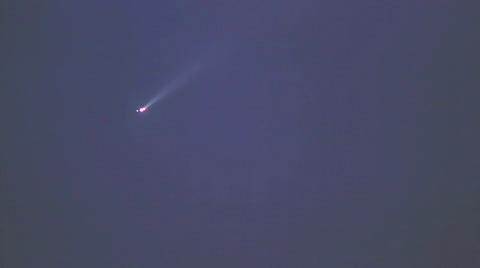Plane: (115, 70, 203, 122)
